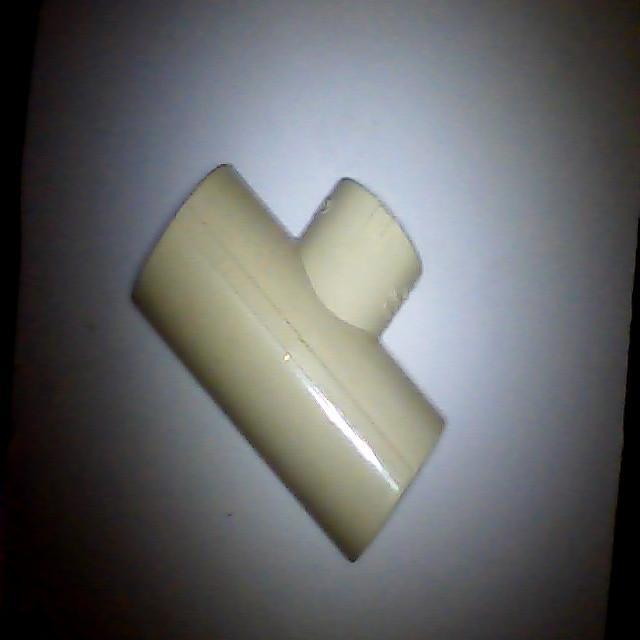T Joint: (130, 165, 447, 564)
